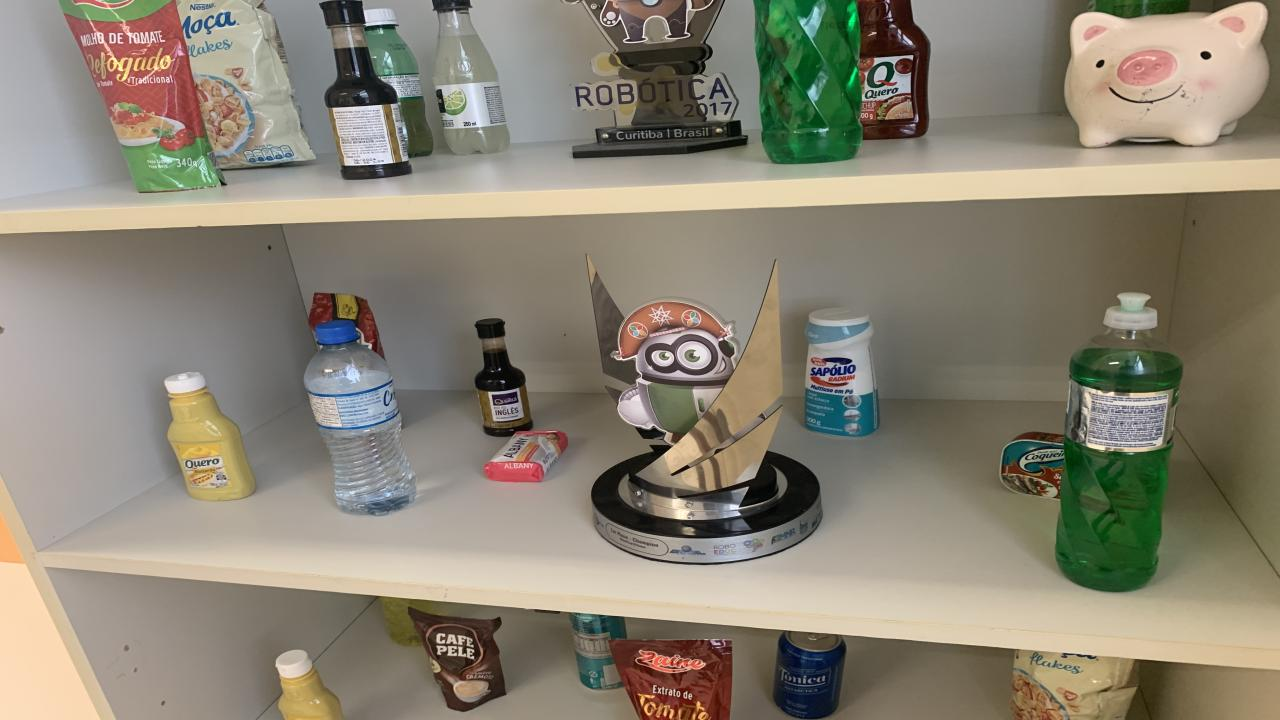Cleaner-Cleanup_Items: (805, 308, 880, 437)
Coffee-Pantry_Items: (408, 608, 505, 711)
Detergent-Cleanup_Items: (1055, 294, 1182, 591), (755, 0, 862, 163)
English_Sauce-Pantry_Items: (322, 0, 412, 180), (475, 319, 532, 437)
Flakes-Snacks: (178, 0, 315, 169), (1010, 651, 1140, 720)
Guarana-Drinks: (365, 9, 432, 158)
Ketchup-Pantry_Items: (858, 0, 930, 139)
Mustard-Pantry_Items: (165, 371, 255, 501), (275, 649, 342, 720)
Pig_Safe-Miscellaneous: (1065, 2, 1270, 148)
Pringles-Snacks: (1088, 0, 1190, 19)
Soap-Cleanup_Items: (485, 431, 568, 482)
Soda-Drinks: (432, 0, 510, 154)
Tea-Drinks: (570, 613, 628, 690)
Tomato_Sauce-Pantry_Items: (60, 0, 222, 191), (610, 639, 732, 720), (308, 292, 385, 356)
Tonic-Drinks: (772, 632, 845, 718)
Trophy-Miscellaneous: (572, 0, 748, 158)
Tuna_Can-Pantry_Items: (1000, 431, 1065, 499)
Water_Bottle-Drinks: (305, 321, 415, 516)
